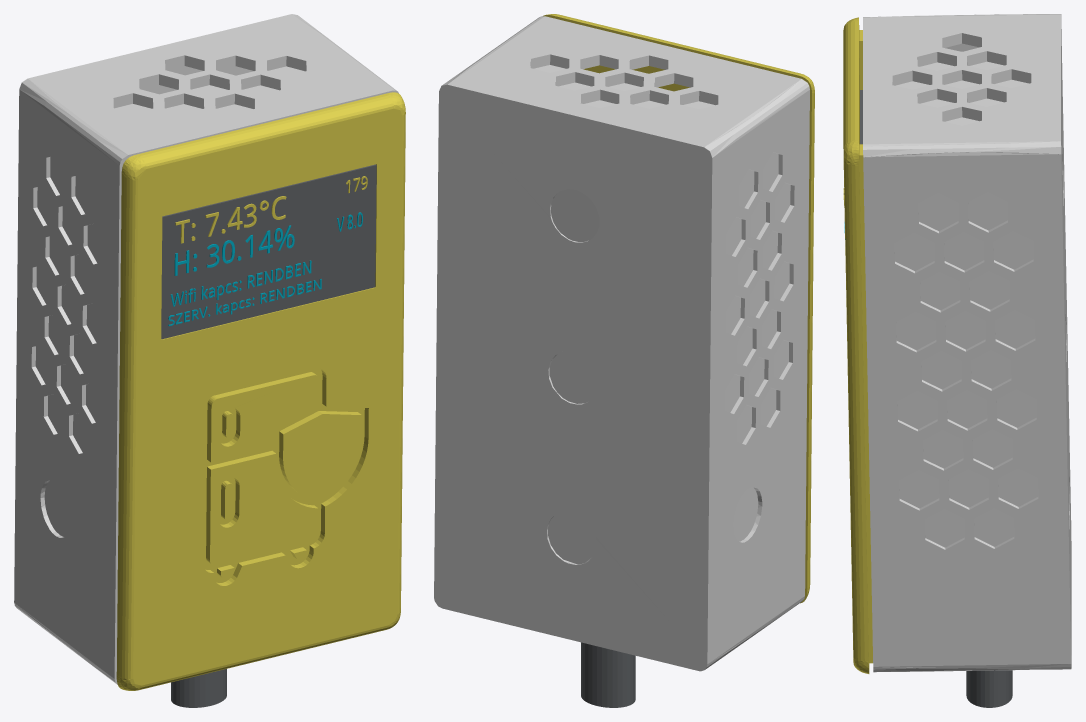
The model's file is feher_sarga.glb.
3 views of the same model, side by side, from view 1: azimuth 30°, elevation 25°; view 2: azimuth 150°, elevation 25°; view 3: azimuth 270°, elevation 25° (orthographic). The views are drawn at different scales.
Parts seen in each view (by area): view 1: Mesh_Mesh_head_geo.001_lambert2SG.001; view 2: Mesh_Mesh_head_geo.001_lambert2SG.001; view 3: Mesh_Mesh_head_geo.001_lambert2SG.001.
Boxes of the visible parts, box(x1,y1,x2,y2) form: Mesh_Mesh_head_geo.001_lambert2SG.001: box(14, 14, 405, 707); Mesh_Mesh_head_geo.001_lambert2SG.001: box(434, 14, 814, 707); Mesh_Mesh_head_geo.001_lambert2SG.001: box(843, 14, 1071, 707).
Size of the model in its own units: 33 by 70.15 by 23.52.
